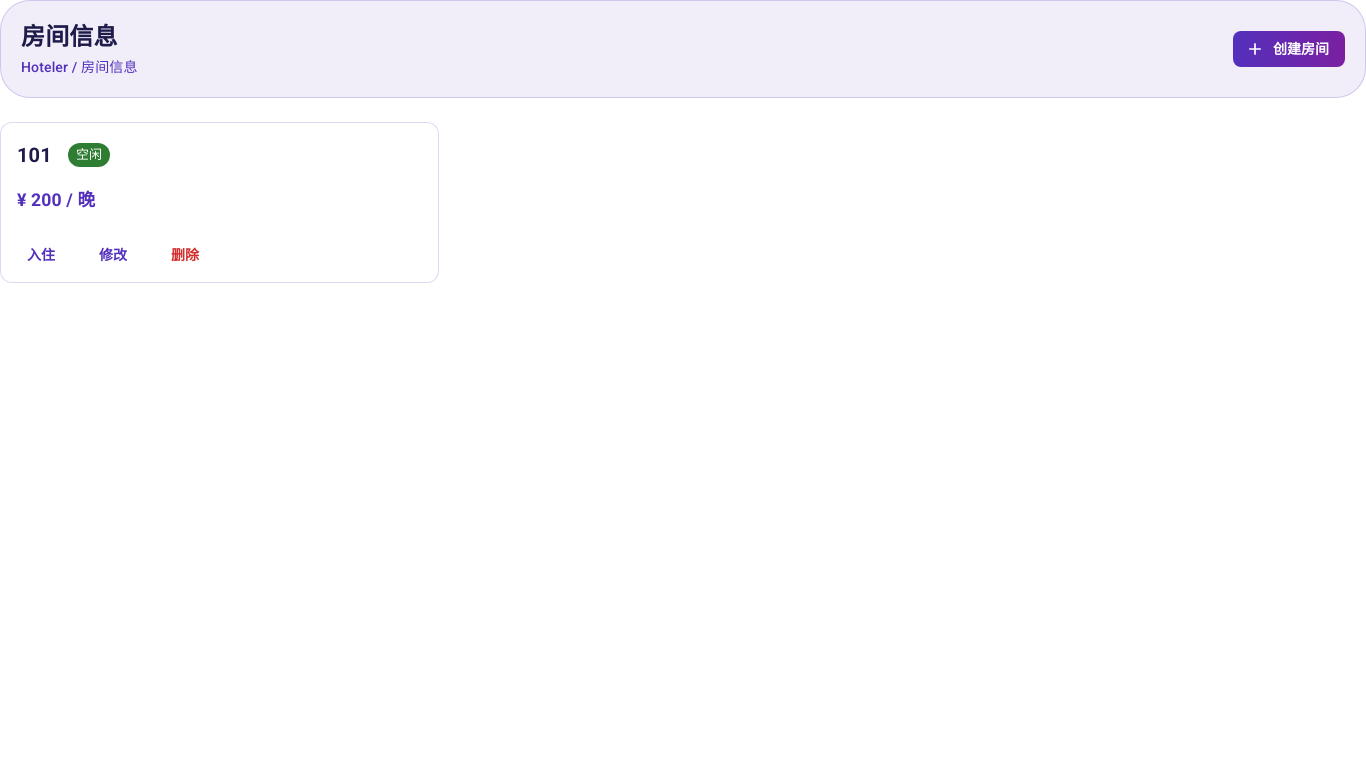
Test: MUI migration workflows › checks a customer in and refreshes occupancy
The image size is (1366, 768).
Expected: the heading "101" is shown, left=17, top=139, right=52, bottom=171
Step 1. Click the button "入住" → (41, 256), box left=9, top=237, right=73, bottom=274
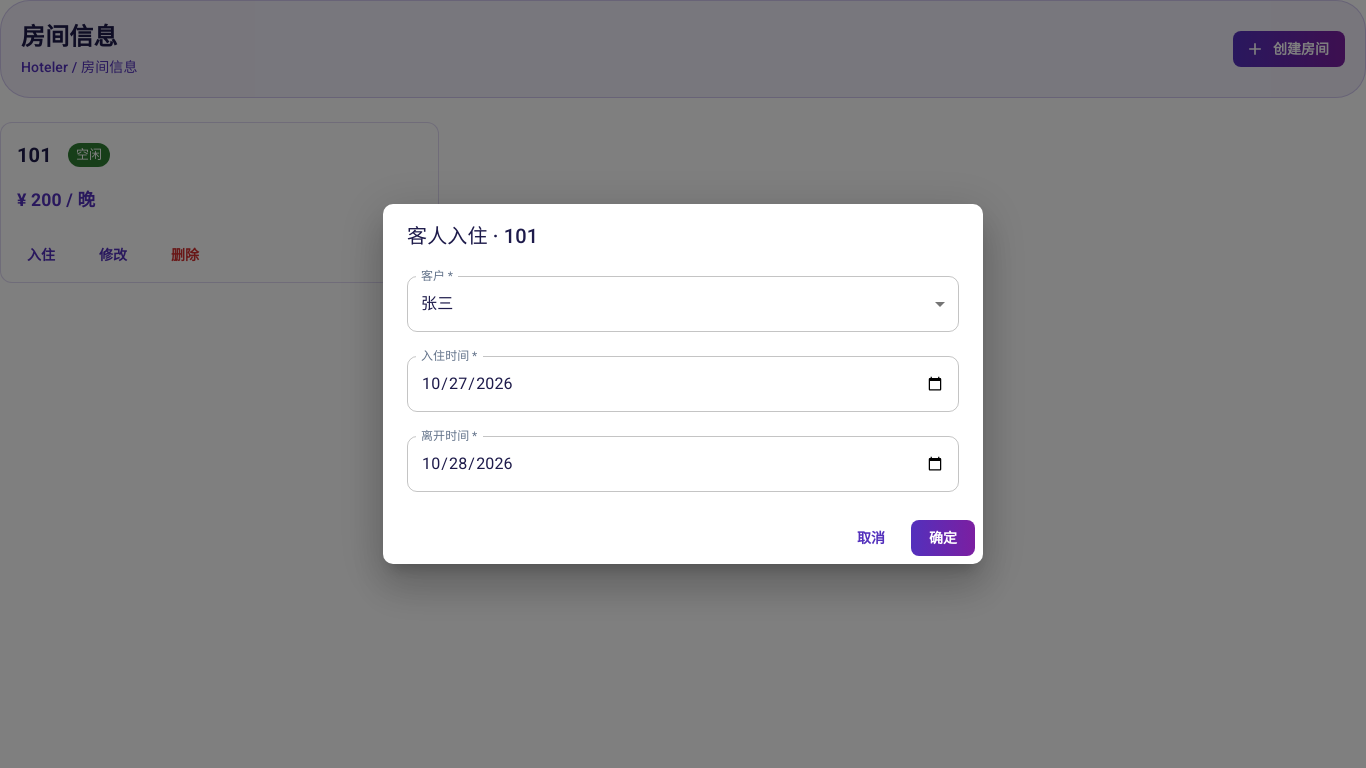
Result: the date field labelled "入住时间 *" is shown at left=407, top=356, right=959, bottom=412
Step 2. Click the button "确定" → (943, 538), box left=911, top=520, right=975, bottom=556
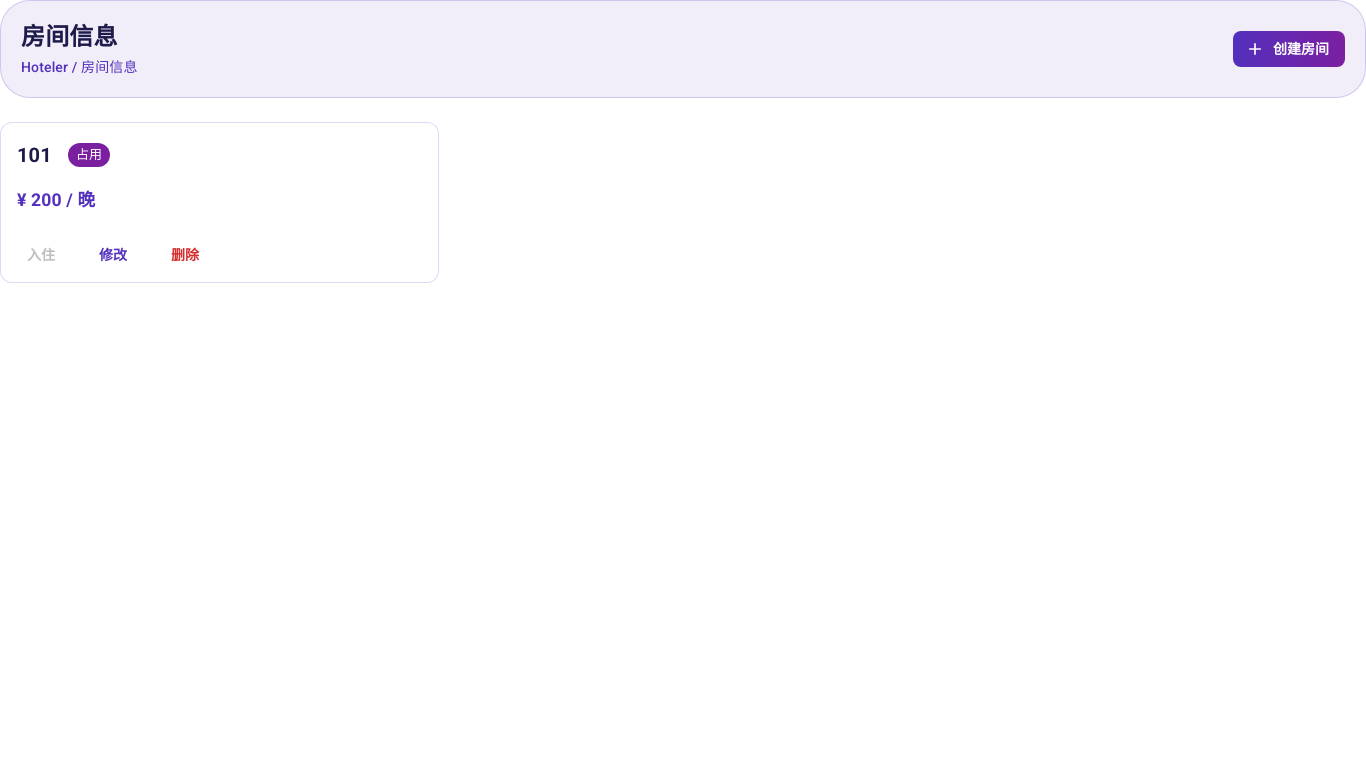
Result: the text "占用" is shown at left=76, top=147, right=102, bottom=162
Result: the button "入住" is disabled at left=9, top=237, right=73, bottom=274
